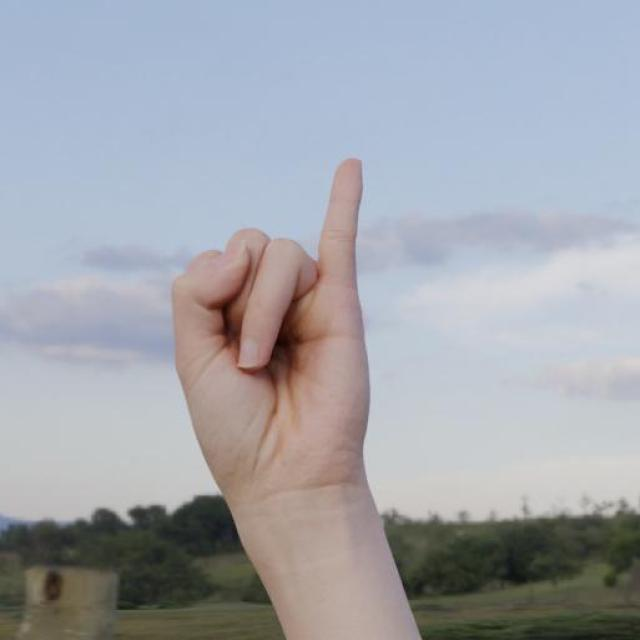I: (152, 114, 440, 544)
